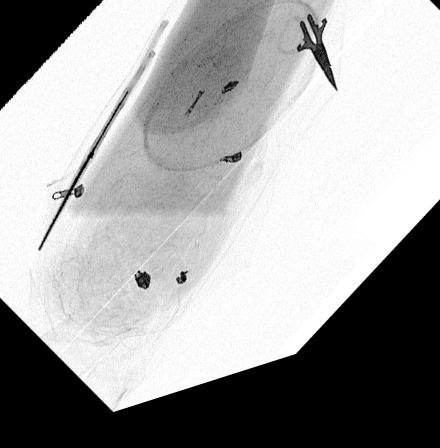Scissors: (35, 29, 171, 255), (275, 1, 339, 115)
